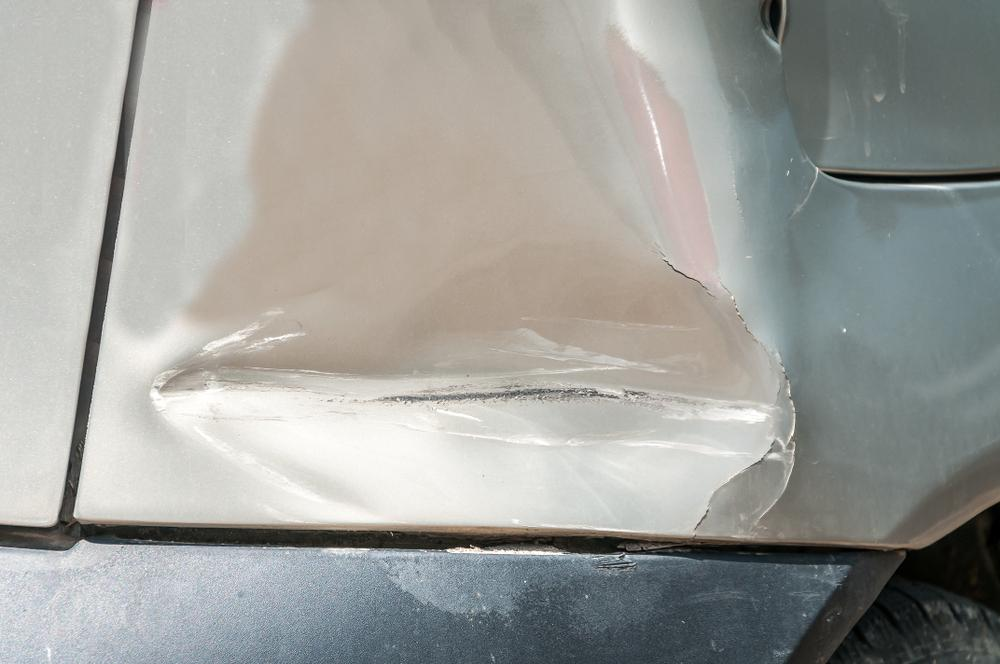dent: (152, 239, 794, 538)
